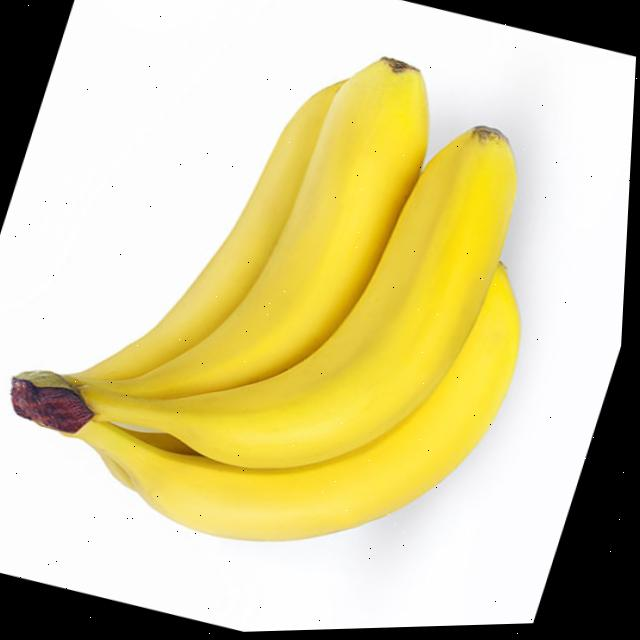Banana: (84, 130, 517, 469), (79, 270, 521, 541), (99, 62, 429, 398), (80, 82, 344, 380)
